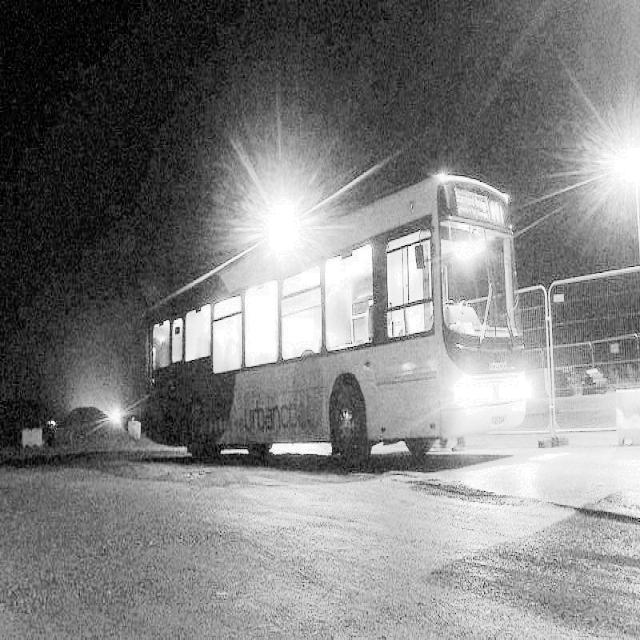Bus: (143, 154, 591, 487)
Car: (49, 400, 118, 454)
